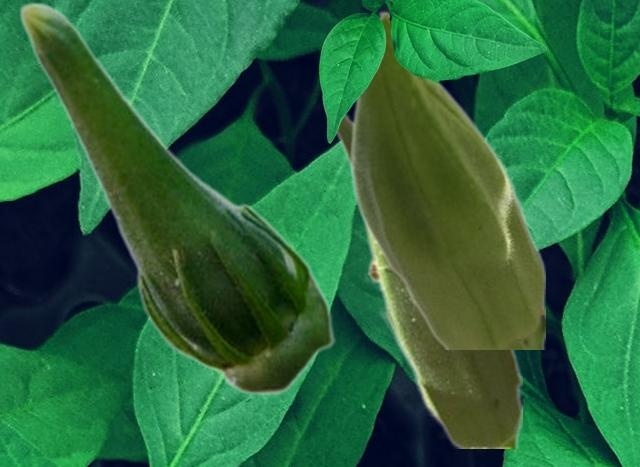okra: (18, 1, 334, 395), (349, 10, 544, 348), (335, 113, 521, 447)
